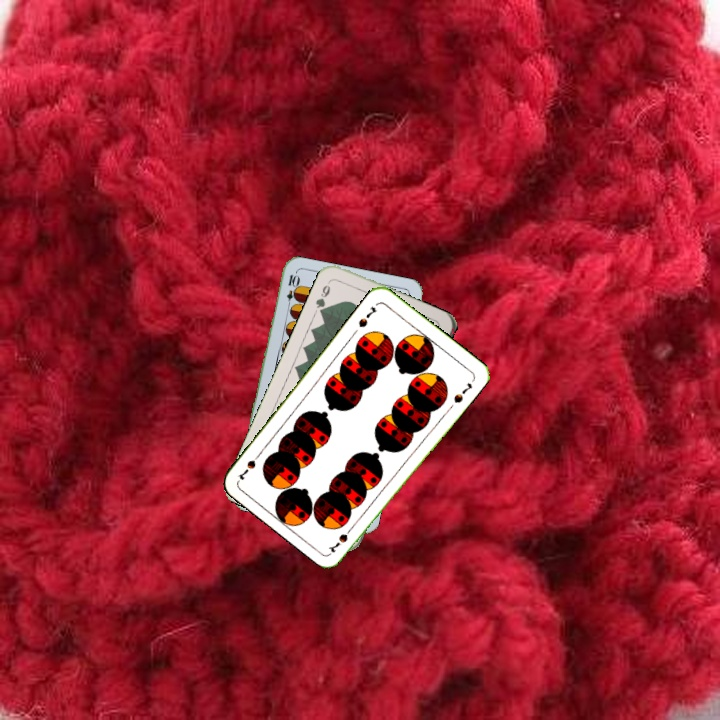E10: (282, 271, 300, 311)
G9: (311, 281, 333, 317)
S7: (325, 521, 357, 555), (354, 302, 380, 330)
